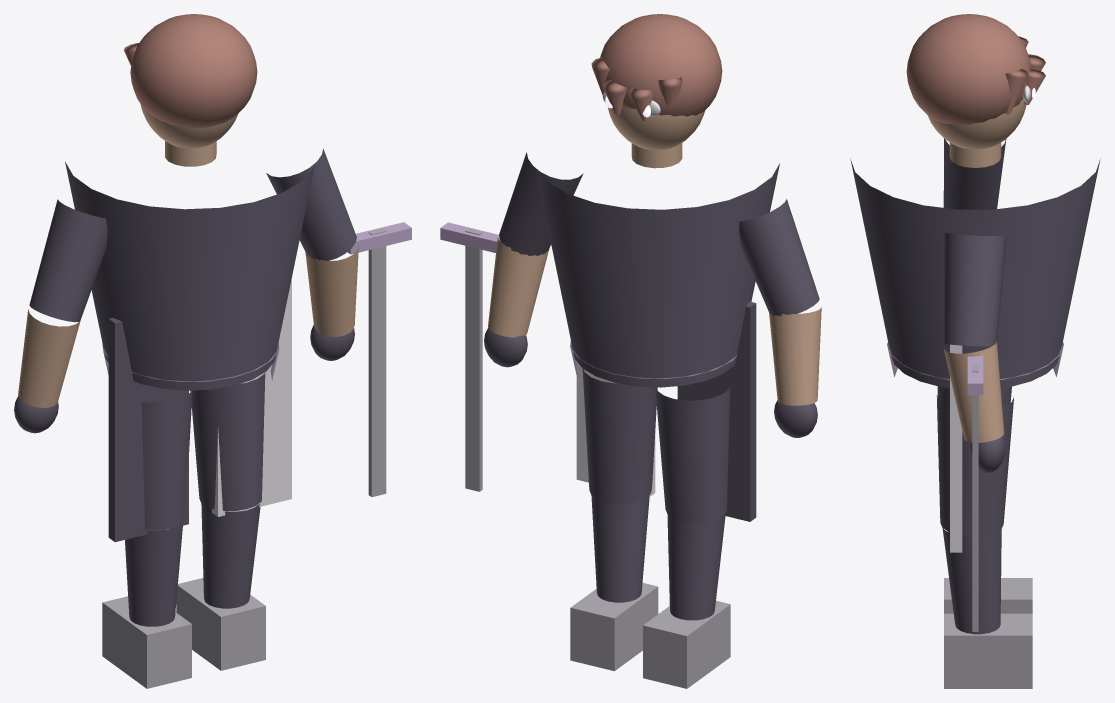
Rendered from kangrim-procedural-v1.glb.
3 views of the same model, side by side, from view 1: azimuth 30°, elevation 25°; view 2: azimuth 150°, elevation 25°; view 3: azimuth 270°, elevation 25° (orthographic). The views are drawn at different scales.
Visible parts, largest first — view 1: Outfit_Torso, Hair_Cap, Body_Thigh_R, Outfit_CoatTail_L, Body_UpperArm_L, Body_Thigh_L, Outfit_Boot_L, Outfit_CoatTail_R, Outfit_Boot_R, Body_Shin_R, Body_Shin_L, Weapon_SwordBlade (+8 smaller); view 2: Outfit_Torso, Hair_Cap, Body_Thigh_L, Body_Thigh_R, Outfit_CoatTail_L, Body_UpperArm_L, Outfit_Boot_L, Outfit_Boot_R, Body_Shin_R, Body_Shin_L, Weapon_SwordBlade, Body_Forearm_L (+8 smaller); view 3: Outfit_Torso, Hair_Cap, Body_UpperArm_R, Outfit_Boot_R, Body_Thigh_R, Body_Shin_R, Body_Forearm_R, Body_UpperArm_L, Body_Head, Outfit_CoatTail_R, Weapon_SwordBlade, Outfit_Boot_L (+6 smaller).
Part boxes in pixels (left/top/right/bottom): Outfit_Torso: left=65, top=161, right=314, bottom=390; Hair_Cap: left=130, top=14, right=257, bottom=127; Body_Thigh_R: left=190, top=372, right=265, bottom=510; Outfit_CoatTail_L: left=108, top=318, right=188, bottom=542; Body_UpperArm_L: left=29, top=199, right=107, bottom=322; Body_Thigh_L: left=141, top=390, right=192, bottom=529; Outfit_Boot_L: left=102, top=596, right=191, bottom=688; Outfit_CoatTail_R: left=212, top=280, right=291, bottom=516; Outfit_Boot_R: left=176, top=578, right=265, bottom=670; Body_Shin_R: left=201, top=503, right=260, bottom=608; Body_Shin_L: left=125, top=523, right=182, bottom=626; Weapon_SwordBlade: left=368, top=228, right=386, bottom=496; Outfit_Torso: left=535, top=163, right=779, bottom=387; Hair_Cap: left=600, top=14, right=722, bottom=116; Body_Thigh_L: left=655, top=386, right=730, bottom=522; Body_Thigh_R: left=582, top=369, right=657, bottom=503; Outfit_CoatTail_L: left=677, top=301, right=756, bottom=521; Body_UpperArm_L: left=739, top=199, right=819, bottom=316; Outfit_Boot_L: left=643, top=600, right=730, bottom=688; Outfit_Boot_R: left=570, top=583, right=658, bottom=671; Body_Shin_R: left=591, top=495, right=649, bottom=602; Body_Shin_L: left=667, top=514, right=725, bottom=620; Weapon_SwordBlade: left=465, top=229, right=482, bottom=491; Body_Forearm_L: left=769, top=307, right=821, bottom=405; Outfit_Torso: left=850, top=158, right=1100, bottom=387; Hair_Cap: left=906, top=14, right=1031, bottom=124; Body_UpperArm_R: left=943, top=232, right=1006, bottom=346; Outfit_Boot_R: left=944, top=613, right=1032, bottom=688; Body_Thigh_R: left=936, top=395, right=1013, bottom=536; Body_Shin_R: left=942, top=528, right=1001, bottom=634; Body_Forearm_R: left=943, top=341, right=1004, bottom=442; Body_UpperArm_L: left=943, top=138, right=1006, bottom=209; Body_Head: left=927, top=98, right=1026, bottom=149; Outfit_CoatTail_R: left=950, top=344, right=962, bottom=552; Weapon_SwordBlade: left=972, top=364, right=978, bottom=631; Outfit_Boot_L: left=944, top=578, right=1032, bottom=613.
Size of the model in its own units: 1.26 by 2.01 by 0.7144.
